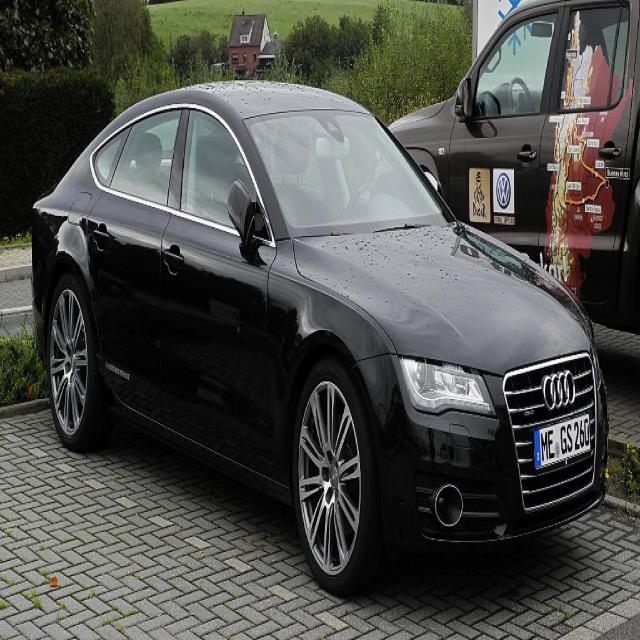car: (30, 74, 610, 591)
